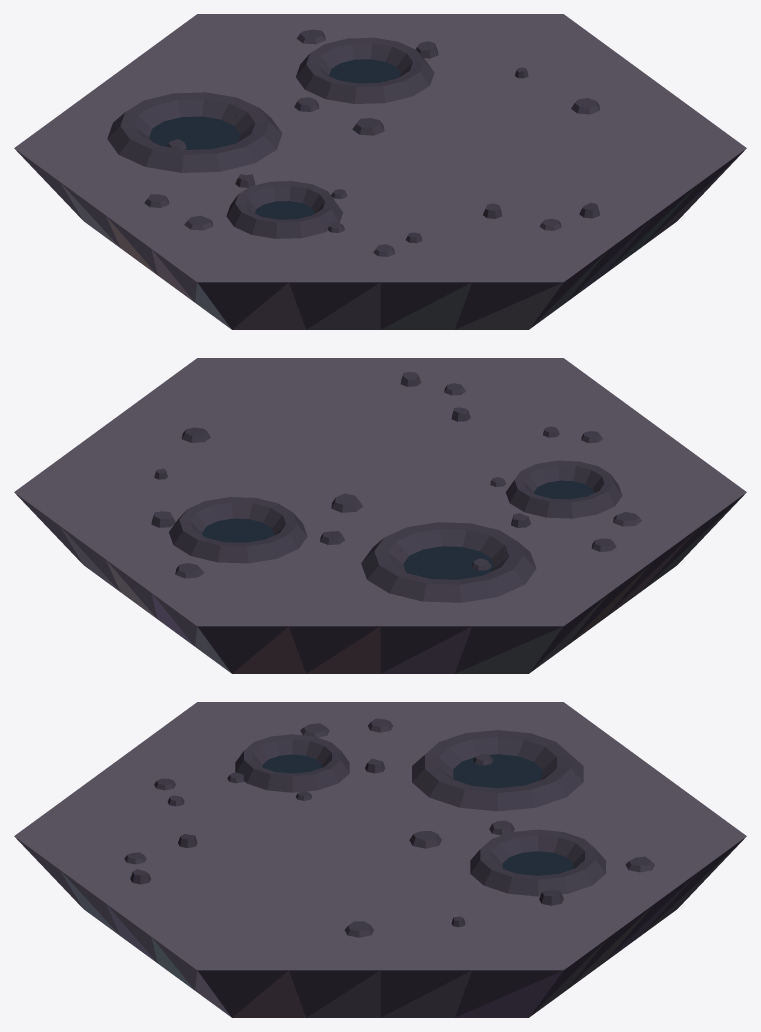
The model's file is space_tile_desert.glb.
3 views of the same model, one above another, from view 1: azimuth 30°, elevation 25°; view 2: azimuth 150°, elevation 25°; view 3: azimuth 270°, elevation 25° (orthographic).
Visible parts, largest first — view 1: FixedDetails; view 2: FixedDetails; view 3: FixedDetails.
Boxes of the visible parts, x1=… form: FixedDetails: x1=14, y1=14, x2=746, y2=329; FixedDetails: x1=14, y1=358, x2=746, y2=673; FixedDetails: x1=14, y1=702, x2=746, y2=1017.
Bounding box in the file's own units: 1.73 × 0.258 × 2.
